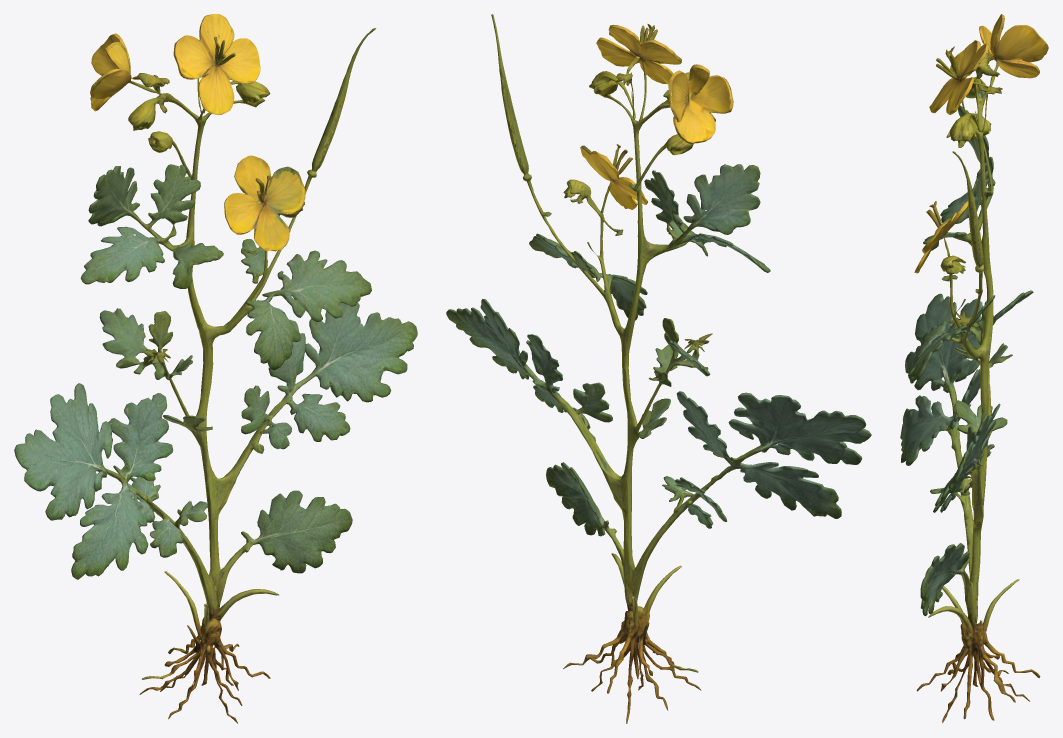
The model's file is Celandine.glb.
3 renders of one model, left to right at view 1: azimuth 30°, elevation 25°; view 2: azimuth 150°, elevation 25°; view 3: azimuth 270°, elevation 25°, orthographic. The views are drawn at different scales.
Visible parts, largest first — view 1: Mesh_0; view 2: Mesh_0; view 3: Mesh_0.
Part boxes in pixels (bbox=[...]): Mesh_0: bbox=[14, 14, 417, 723]; Mesh_0: bbox=[446, 14, 871, 723]; Mesh_0: bbox=[900, 14, 1048, 723].
Bounding box in the file's own units: 0.6235 × 1 × 0.1988.
Materials: 1 (1 with a texture image).
